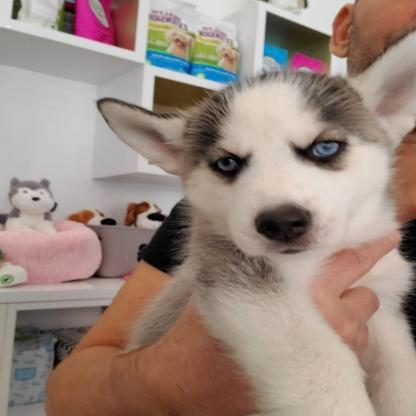husky: (91, 29, 416, 416)
